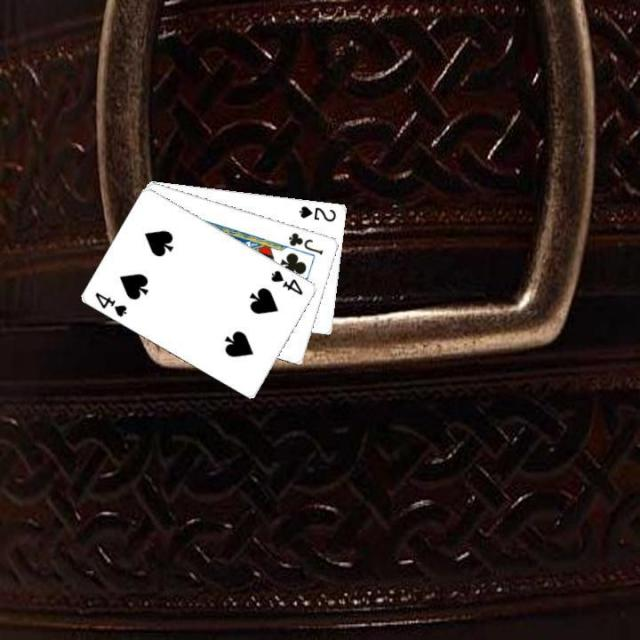2S: (295, 202, 338, 223)
4S: (267, 266, 305, 297), (91, 288, 129, 319)
JC: (286, 228, 326, 256)
